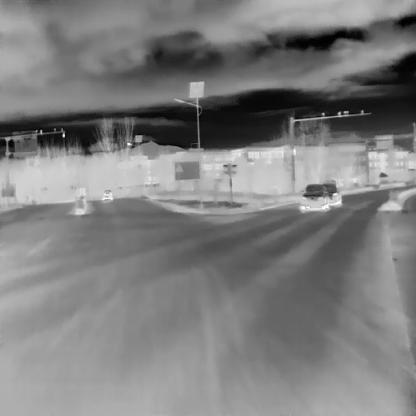car: (300, 182, 329, 210), (322, 182, 342, 205), (101, 188, 112, 200)
